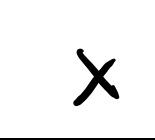mult: (73, 49, 119, 106)
